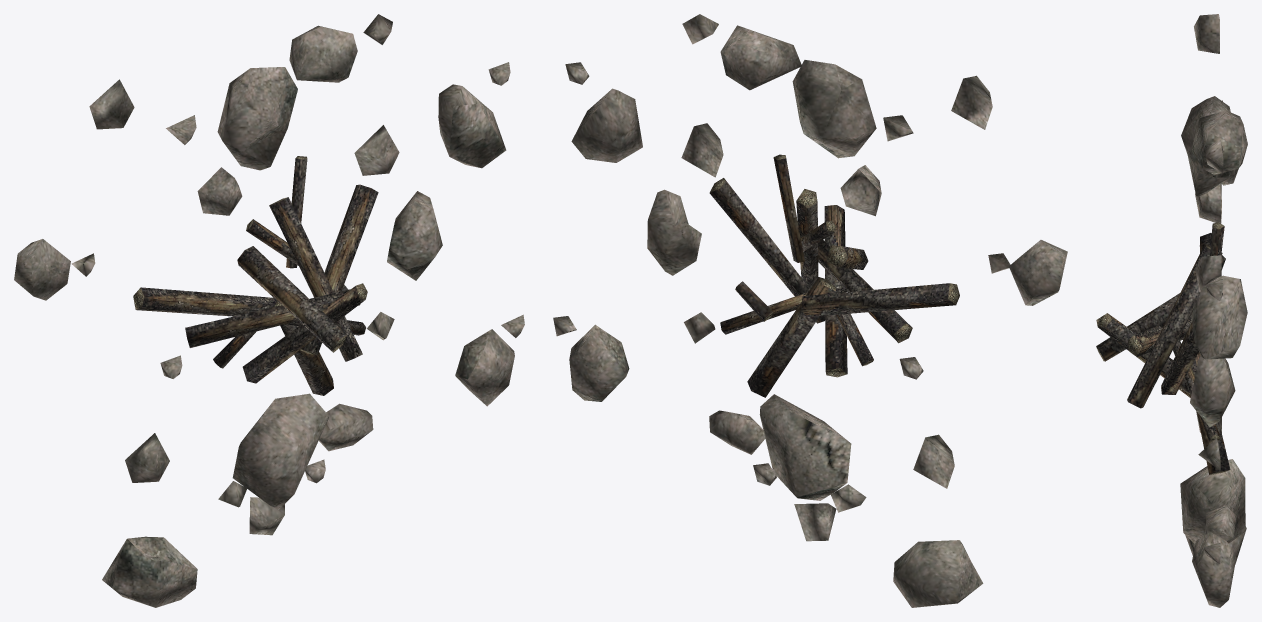
The model's file is tdr_h_campfire.obj.
3 views of the same model, side by side, from view 1: azimuth 30°, elevation 25°; view 2: azimuth 150°, elevation 25°; view 3: azimuth 270°, elevation 25° (orthographic).
Visible parts, largest first — view 1: tdr_h_campfire_stone, tdr_h_campfire_wood; view 2: tdr_h_campfire_stone, tdr_h_campfire_wood; view 3: tdr_h_campfire_stone, tdr_h_campfire_wood.
Boxes of the visible parts, x1=… form: tdr_h_campfire_stone: x1=14, y1=14, x2=524, y2=607; tdr_h_campfire_wood: x1=133, y1=156, x2=378, y2=395; tdr_h_campfire_stone: x1=553, y1=14, x2=1067, y2=607; tdr_h_campfire_wood: x1=709, y1=154, x2=959, y2=397; tdr_h_campfire_stone: x1=1180, y1=14, x2=1247, y2=607; tdr_h_campfire_wood: x1=1096, y1=222, x2=1230, y2=474.
Size of the model in its own units: 1097 by 1103 by 285.
2 materials, 2 textured.
